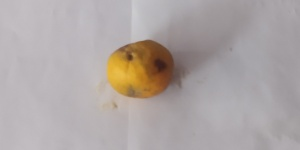BAD: (107, 40, 175, 100)
